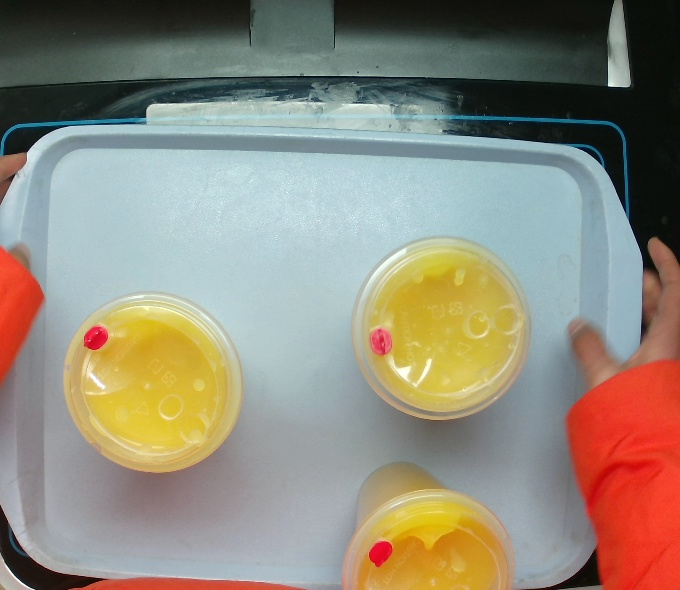wcq-ChengZhi: (60, 288, 246, 475), (350, 235, 533, 424), (337, 459, 516, 590)
